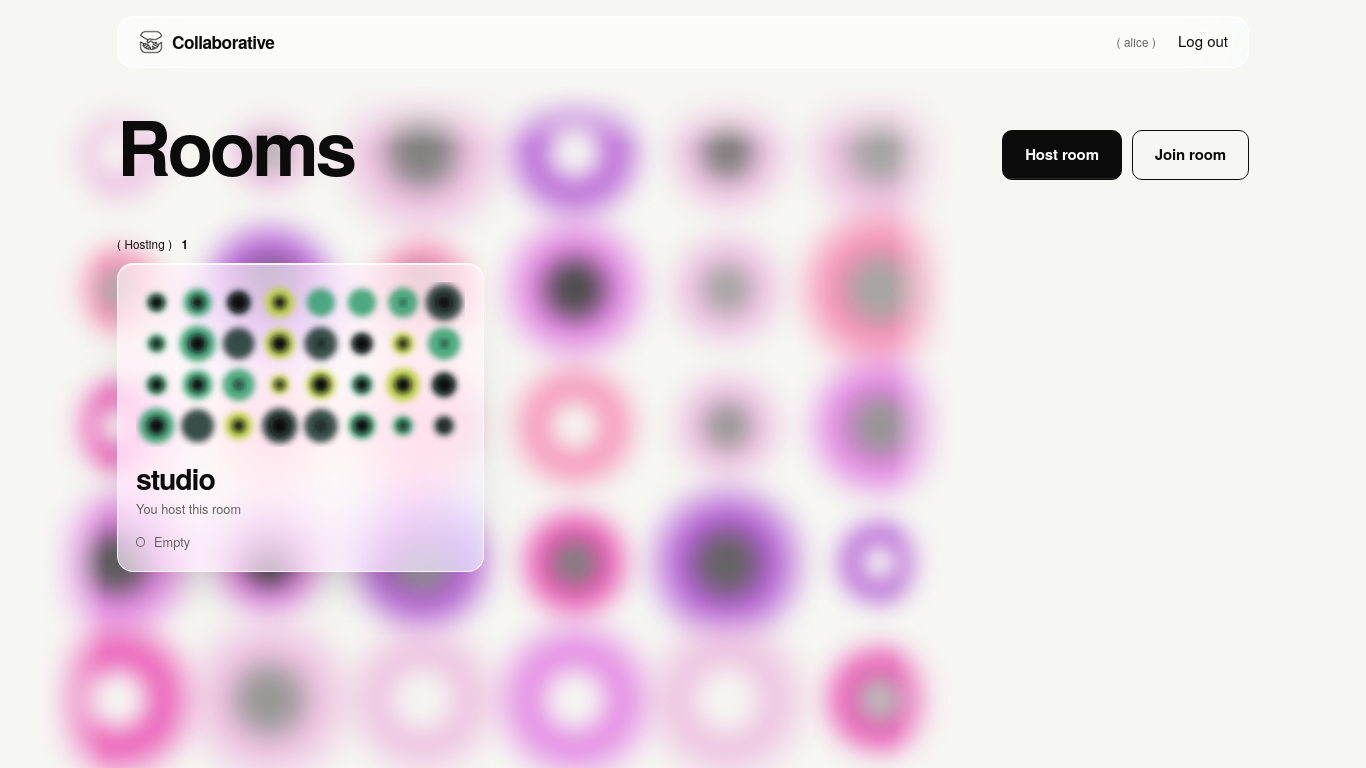
Scenario: a room › lets the host delete the room after confirming
Click the button "studio You host this room Empty". click: (300, 418)
box: [118,264,483,571]
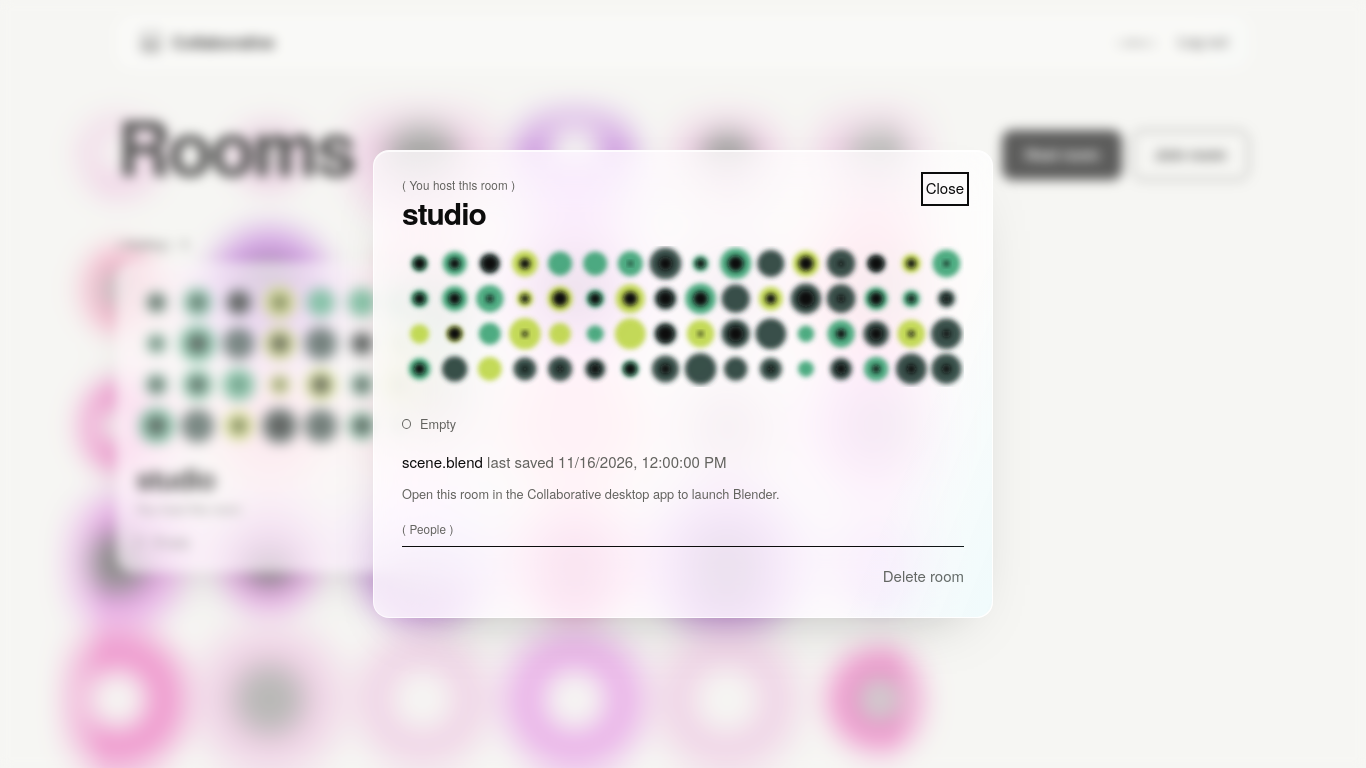
Click the button "Delete room". click: (923, 577)
box: [883,565,964,589]
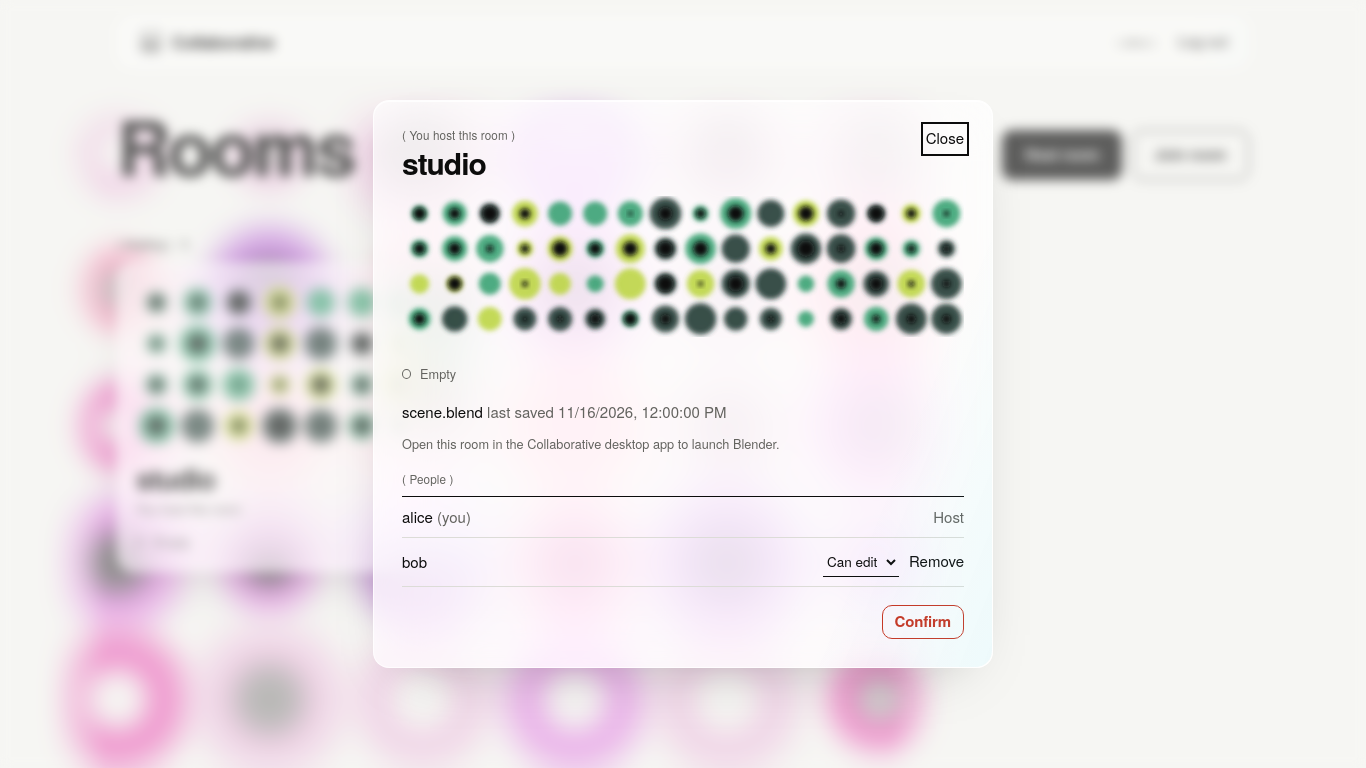
Click the button "Confirm". click: (923, 622)
box: [882,605,964,639]
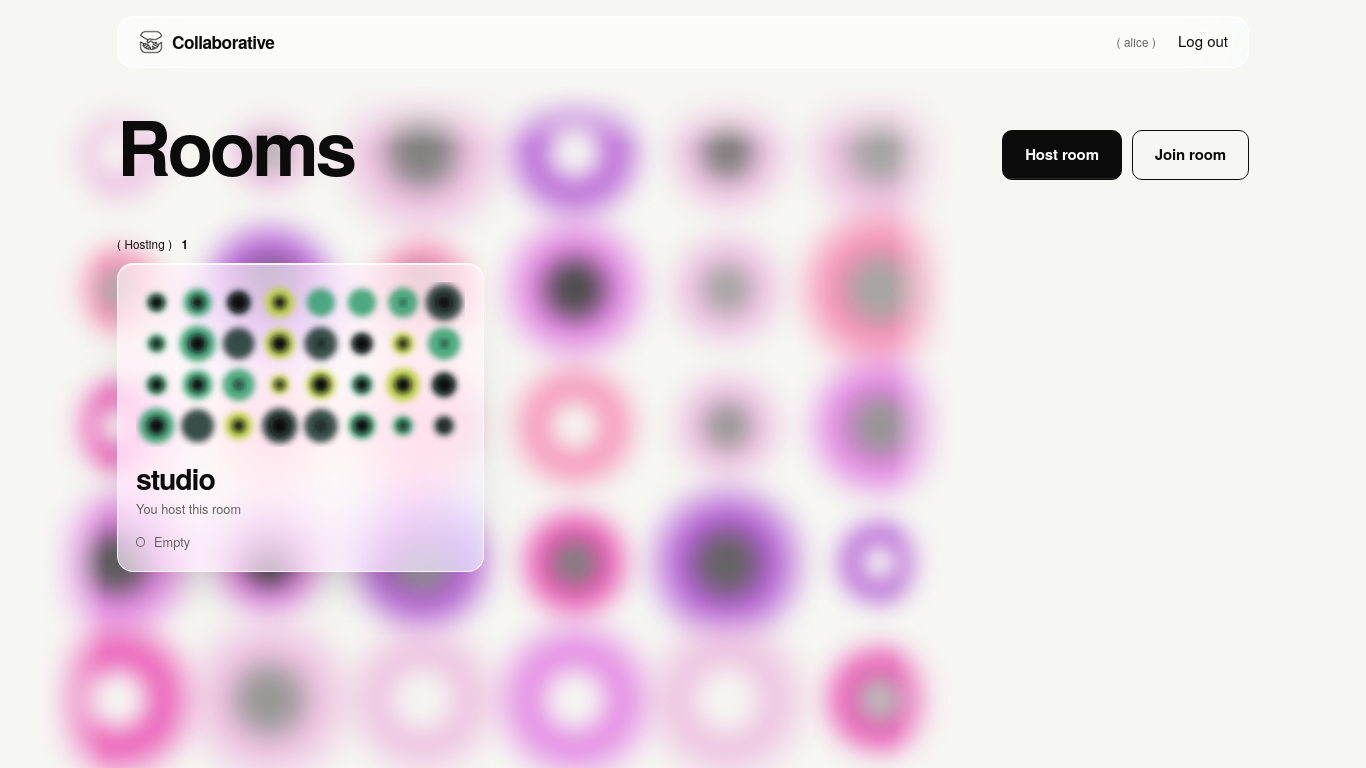
Check: the dialog is gone
